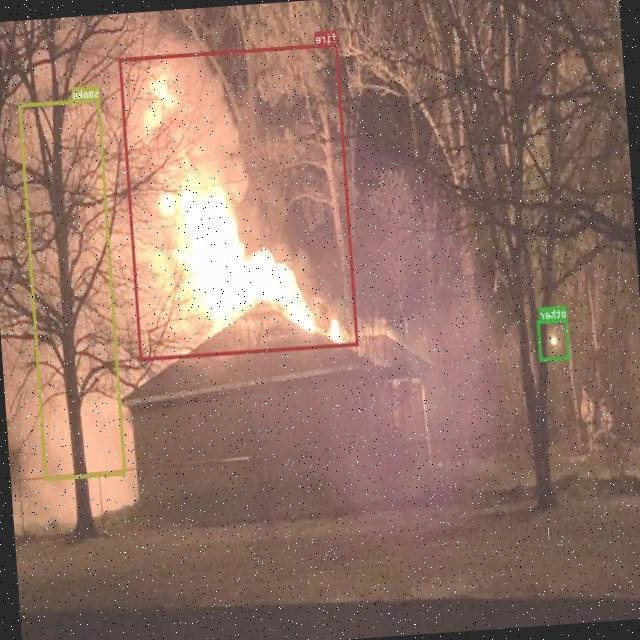fire: (118, 42, 359, 360)
smoke: (19, 97, 126, 480)
